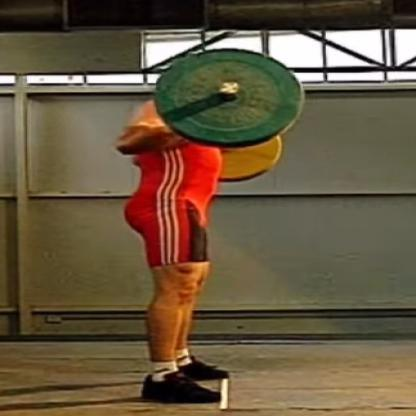barbell: (154, 48, 305, 183)
